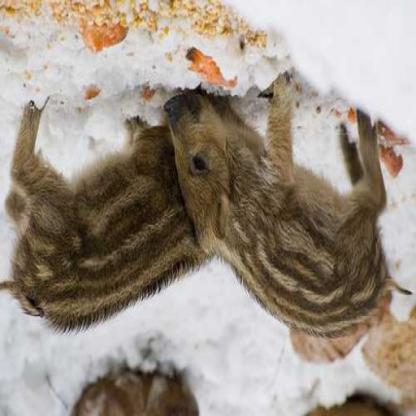boar: (162, 79, 398, 348), (5, 51, 218, 322)
